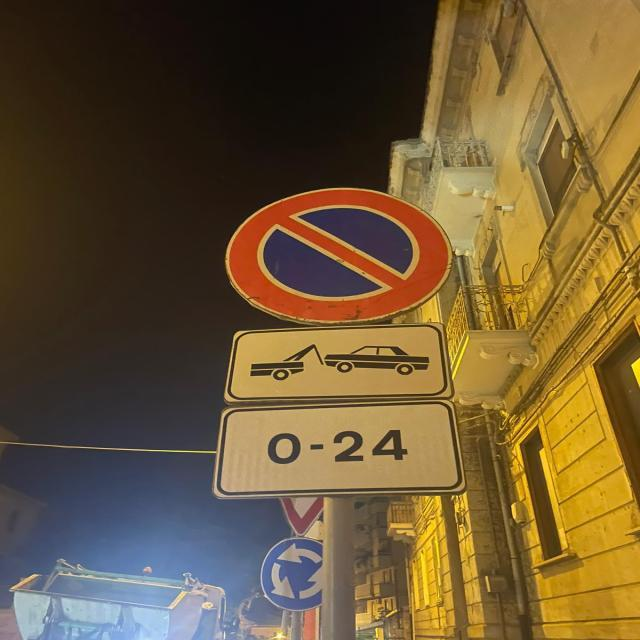forb_stopping: (222, 186, 456, 325)
